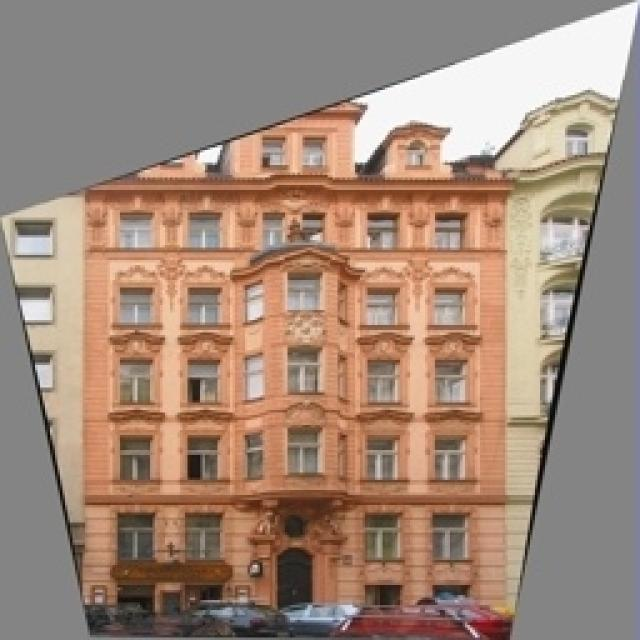building: (75, 80, 503, 635)
